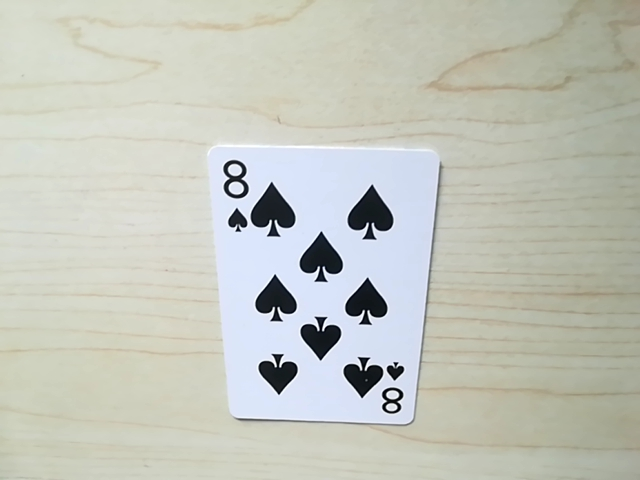ht 8: (211, 154, 254, 228), (373, 367, 413, 425)
